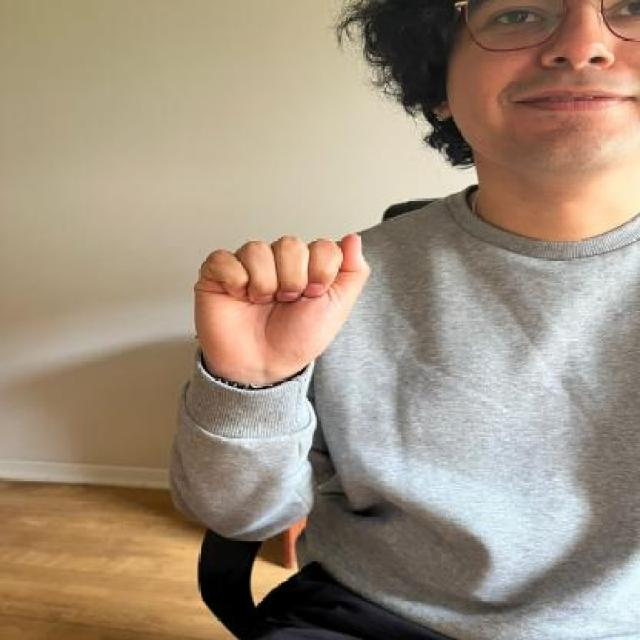A: (181, 226, 374, 372)
